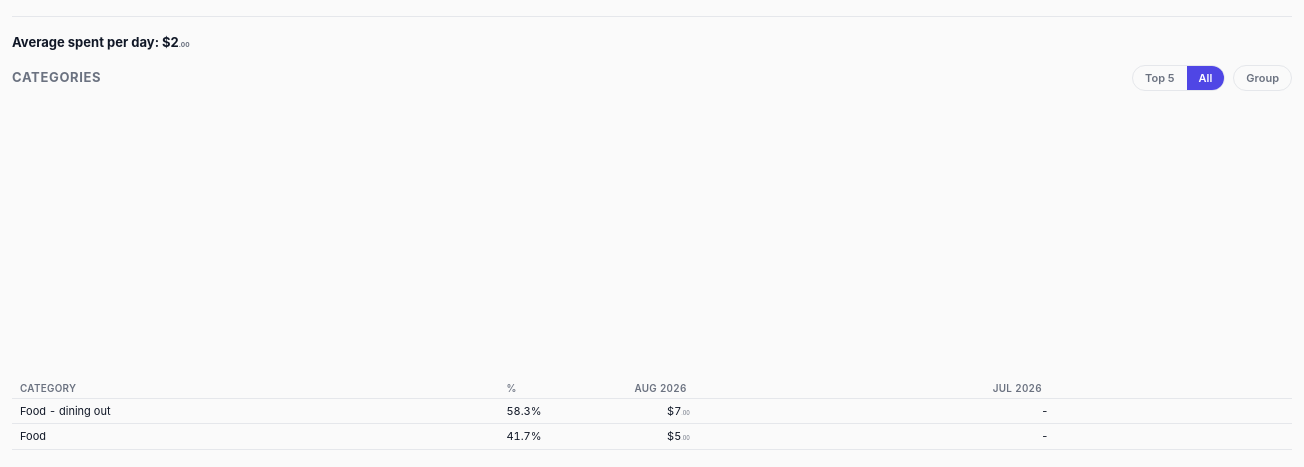
Test: MonthDetailsPanel — controls › merges categories with the same first whole word when Group is toggled on
This screenshot has width=1304, height=467.
Check: the button "Food" is shown, box [12,426,490,447]
Check: the button "Food - dining out" is shown, box [12,401,490,421]
Click the button "Group" at x=1263, y=78, box [1233,64,1292,91]
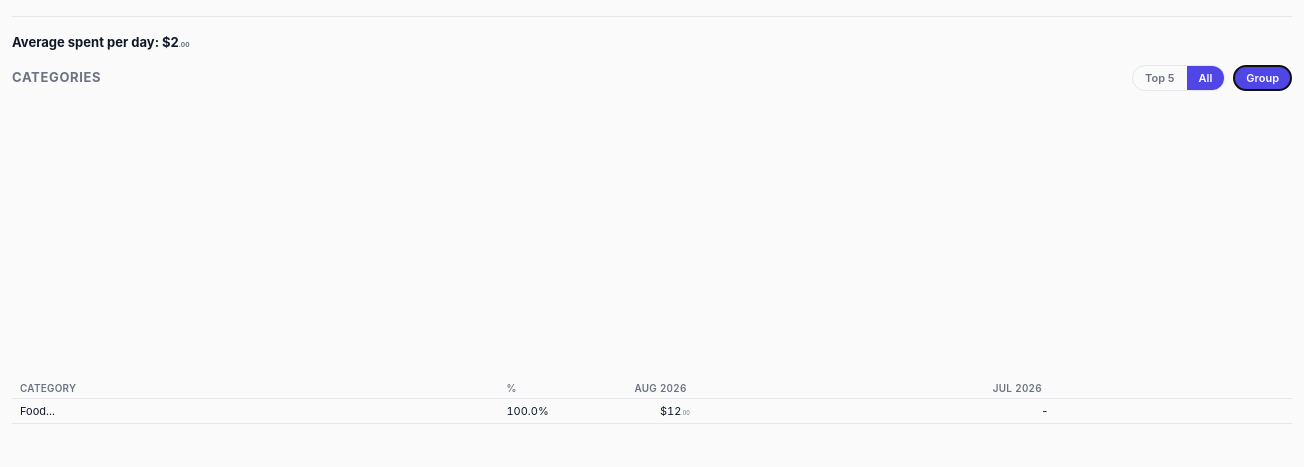
Check: the button "Food..." is shown, box [12,401,490,421]
Check: the button "Food - dining out" is gone
